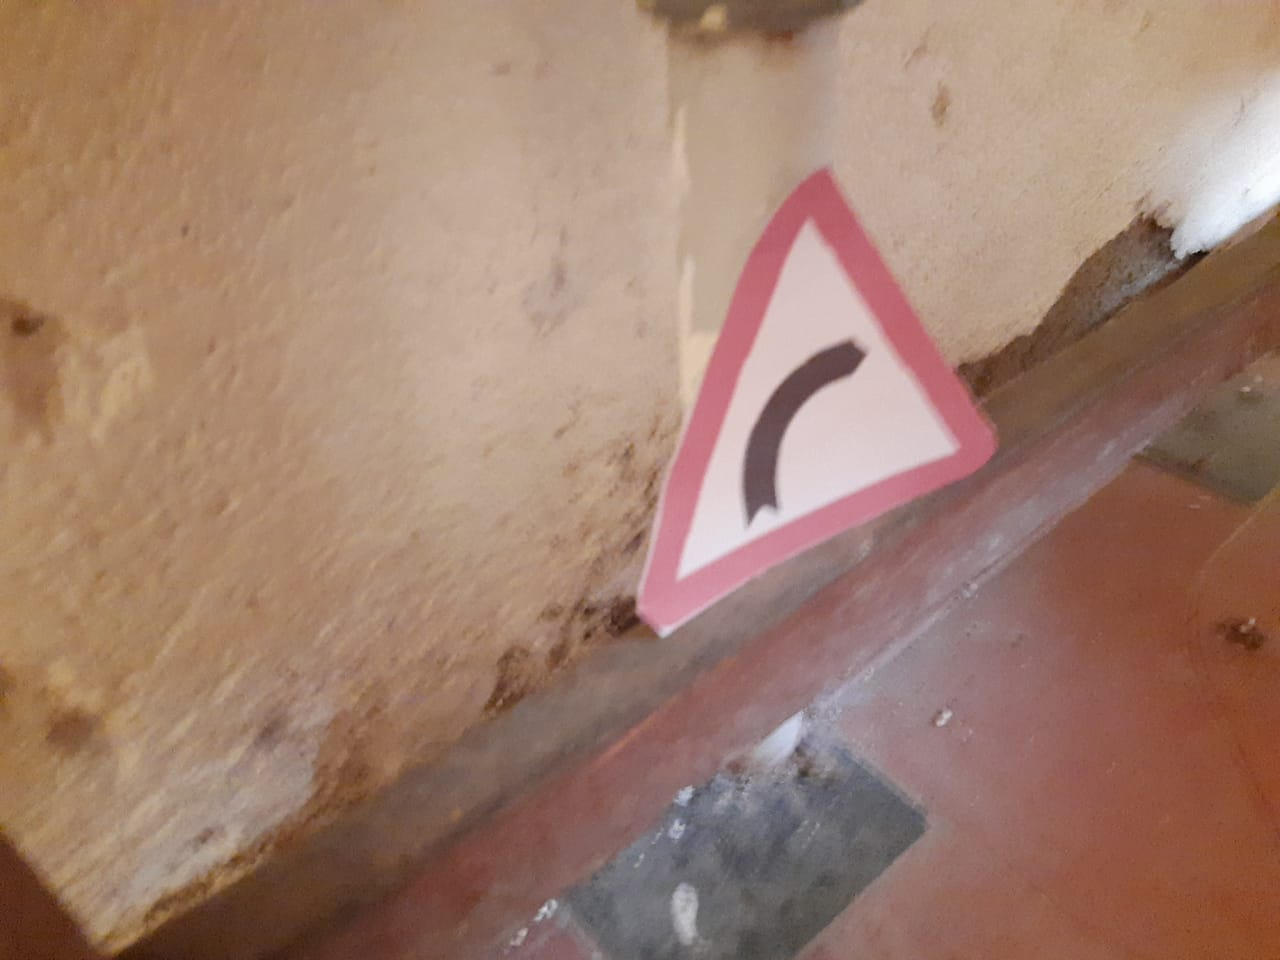RIGHT CURVE: (625, 158, 1003, 623)
